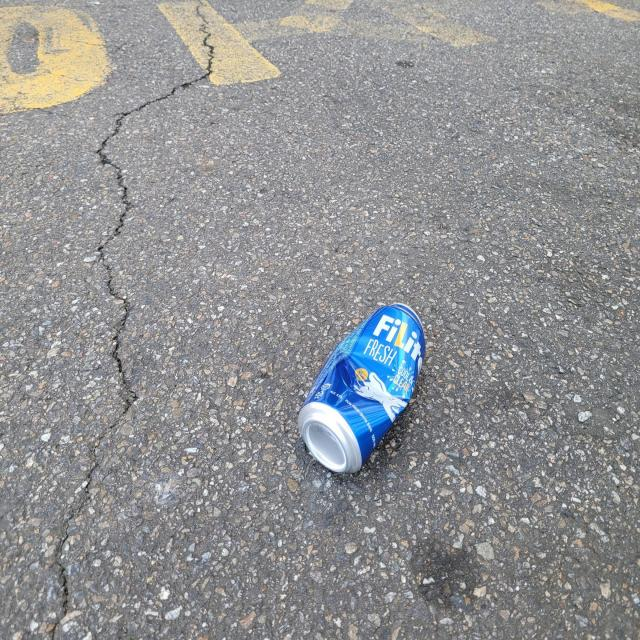can: (298, 303, 426, 473)
